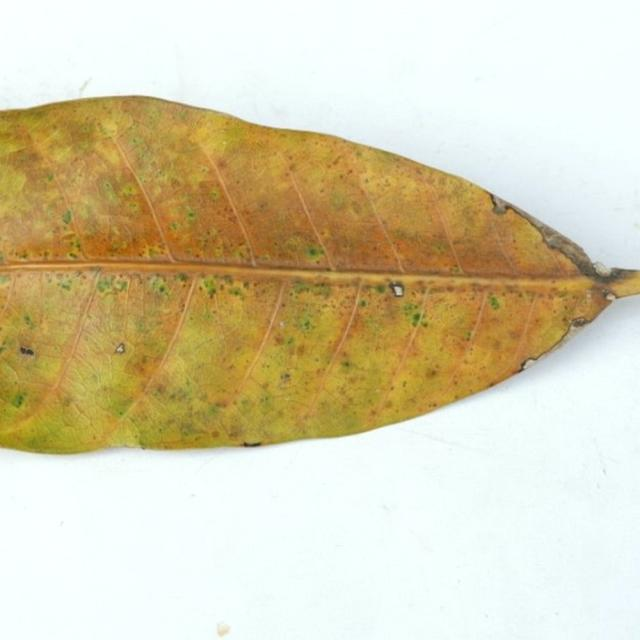Mango: (0, 97, 639, 453)
Powdery_Mildew: (90, 271, 166, 330), (189, 176, 249, 249), (280, 287, 338, 338), (191, 273, 260, 309), (387, 226, 448, 265), (6, 239, 87, 265), (181, 220, 235, 257), (82, 267, 132, 297), (103, 416, 142, 447), (279, 233, 321, 261), (105, 392, 137, 419), (401, 301, 427, 324), (137, 243, 170, 260), (148, 276, 171, 298), (290, 281, 315, 298), (200, 278, 220, 299), (98, 118, 120, 136), (65, 236, 83, 256), (284, 236, 304, 253), (102, 181, 118, 200), (331, 193, 346, 209), (111, 239, 129, 252), (96, 278, 111, 293), (11, 393, 25, 408), (122, 184, 137, 197), (488, 295, 501, 310), (350, 200, 363, 215), (59, 279, 72, 291), (61, 210, 72, 224), (23, 315, 35, 327), (0, 274, 12, 286), (18, 249, 29, 259), (275, 335, 286, 345), (280, 372, 290, 382), (169, 222, 180, 231), (342, 360, 352, 369), (465, 330, 474, 340), (210, 188, 219, 198), (375, 284, 385, 293), (302, 319, 311, 329), (131, 137, 141, 146), (211, 430, 219, 438), (187, 211, 195, 218), (359, 299, 366, 306)
